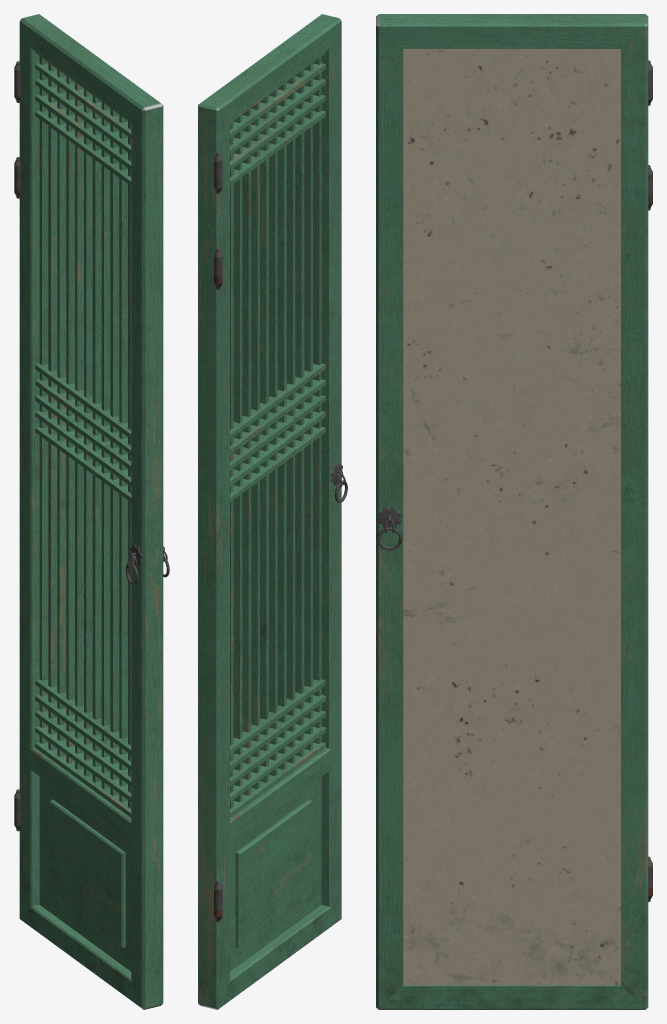
File: SM_Door01a.fbx
The picture shows the model from 3 angles, left to right: view 1: azimuth 30°, elevation 25°; view 2: azimuth 150°, elevation 25°; view 3: azimuth 270°, elevation 25°; orthographic projection. The views are drawn at different scales.
Visible parts, largest first — view 1: SM_Door01a; view 2: SM_Door01a; view 3: SM_Door01a.
Part boxes in pixels (x1,y1,x2,y2): SM_Door01a: (14, 14, 169, 1009); SM_Door01a: (198, 14, 347, 1009); SM_Door01a: (376, 14, 652, 1009).
Size of the model in its own units: 8.46 by 200 by 50.87.
